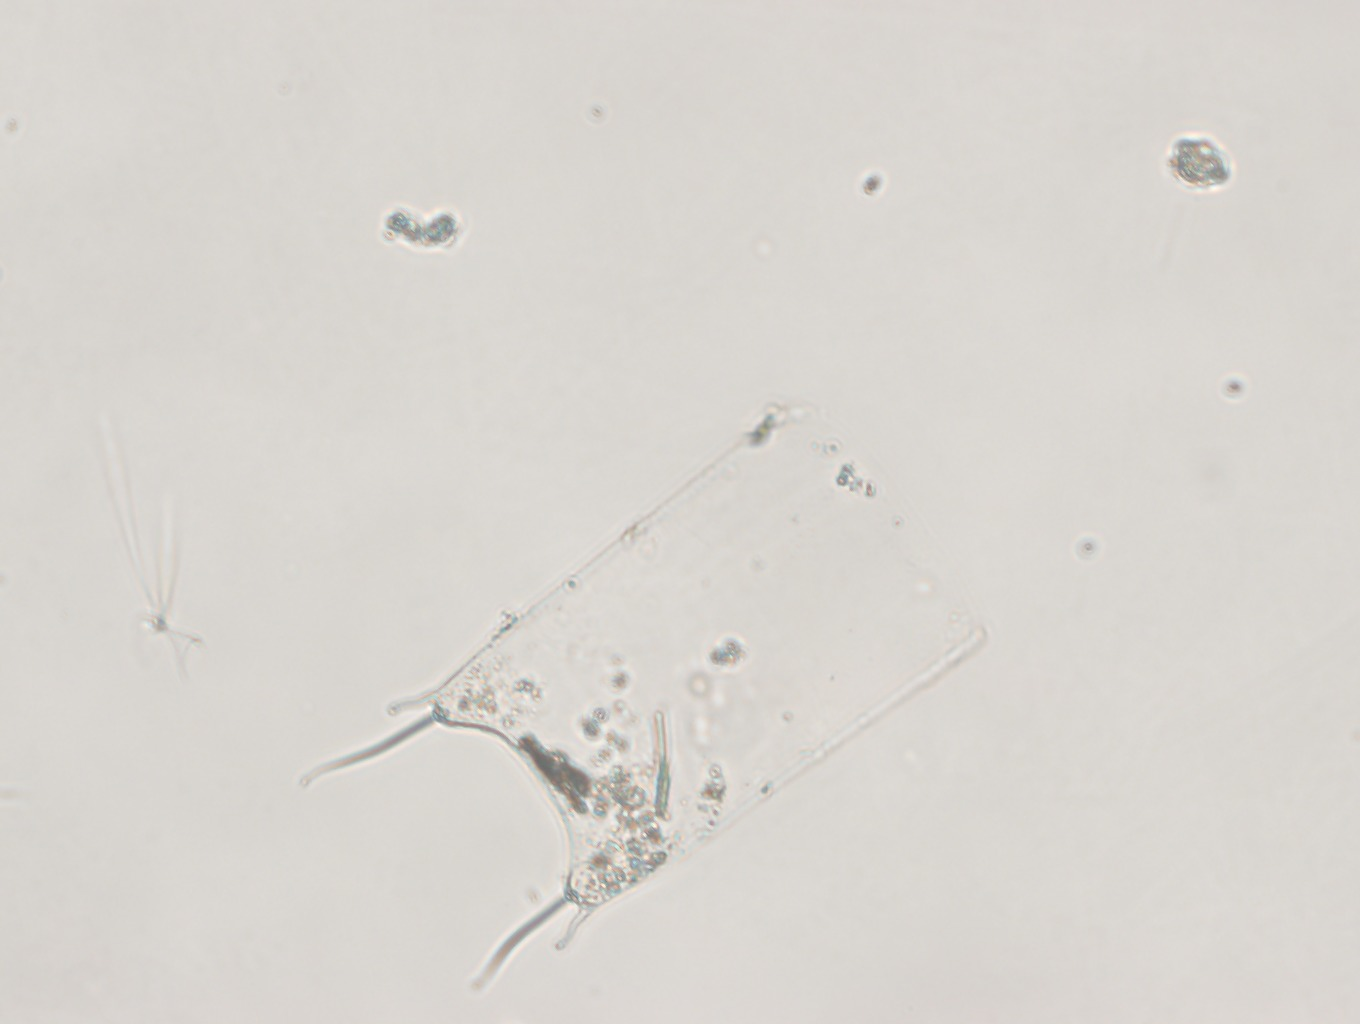biddulphia: (304, 381, 990, 992)
